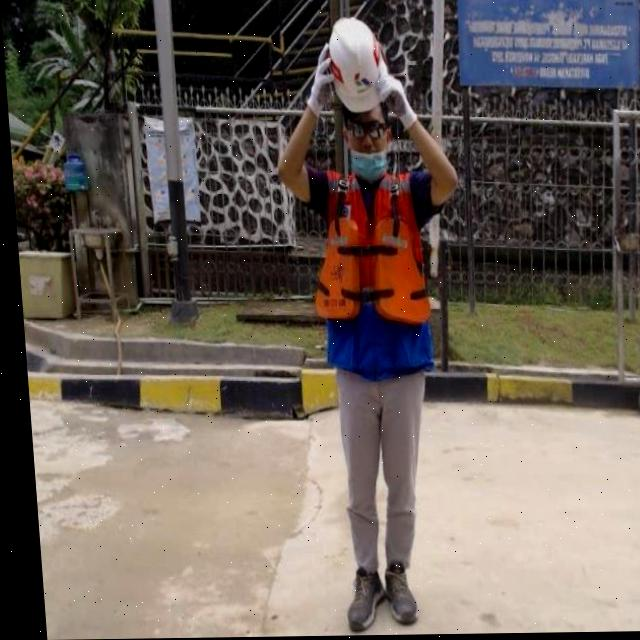Gloves: (302, 43, 336, 117), (374, 74, 416, 132)
Helmet: (325, 16, 393, 115)
Safety-Boot: (335, 567, 379, 632), (374, 562, 410, 625)
Safety-Vest: (302, 167, 429, 328)
